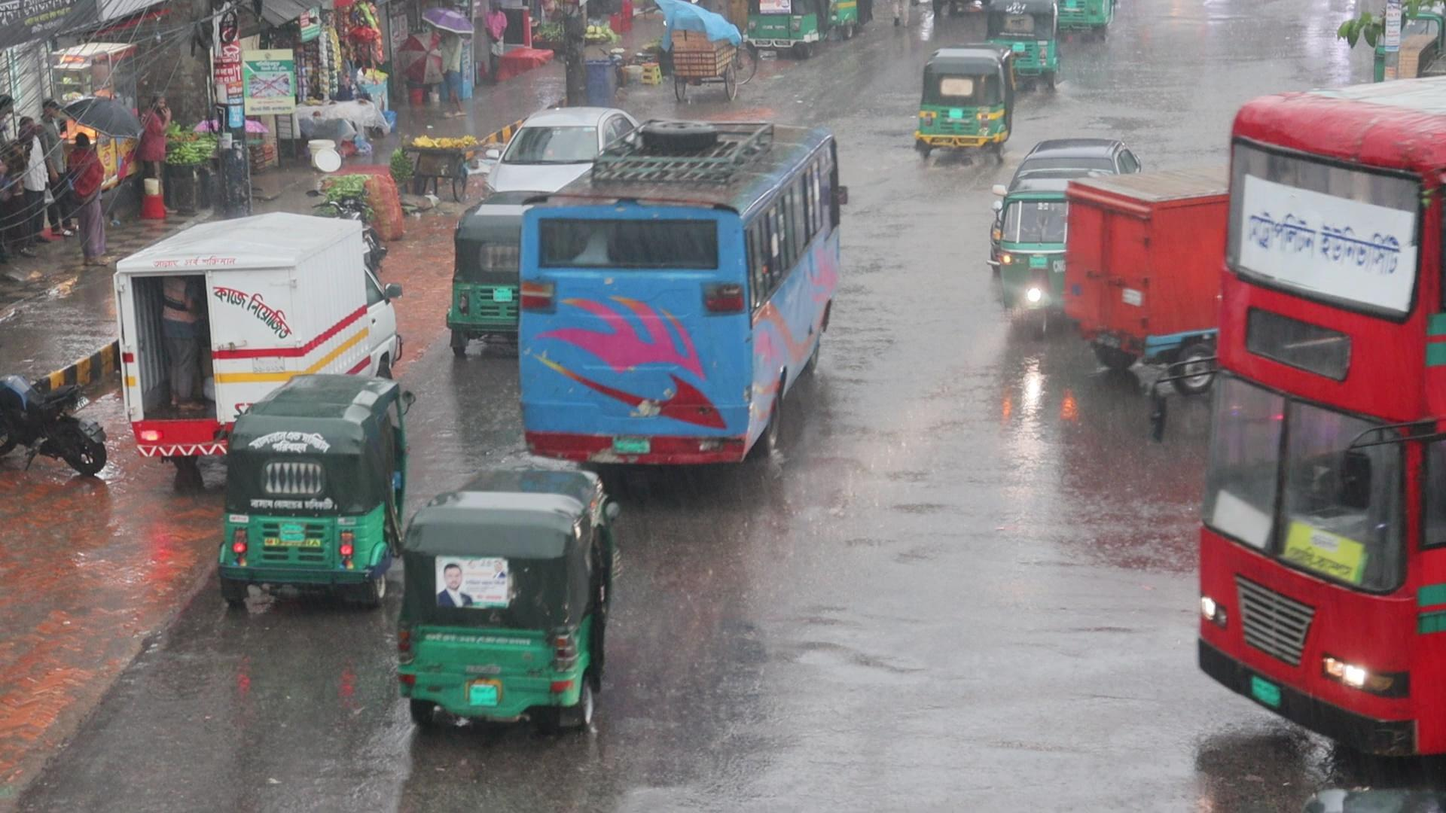Bus: (513, 110, 854, 470)
